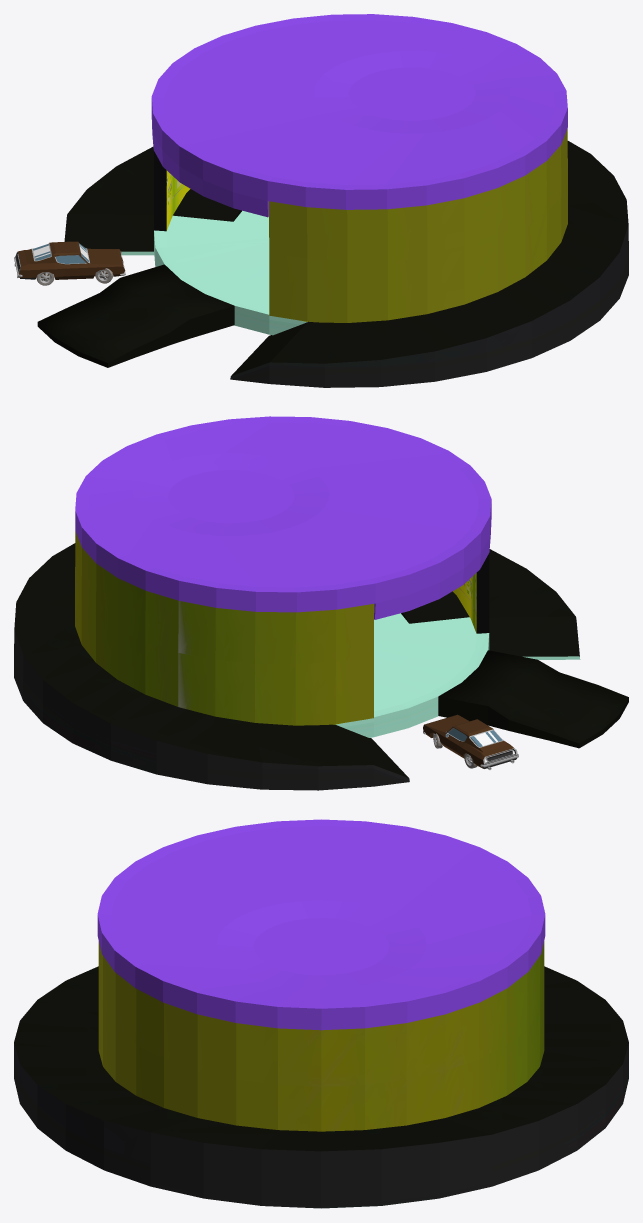
Rendered from lasershark_lab2.fbx.
3 renders of one model, top to bottom at view 1: azimuth 30°, elevation 25°; view 2: azimuth 150°, elevation 25°; view 3: azimuth 270°, elevation 25°, orthographic. The views are drawn at different scales.
Parts seen in each view (by area): view 1: lasershark_lab.001; view 2: lasershark_lab.001; view 3: lasershark_lab.001.
Part boxes in pixels (x1=…): lasershark_lab.001: x1=14, y1=14, x2=628, y2=387; lasershark_lab.001: x1=14, y1=416, x2=628, y2=790; lasershark_lab.001: x1=14, y1=819, x2=628, y2=1208.
Size of the model in its own units: 3338 by 964 by 3044.
3 materials, 3 textured.
